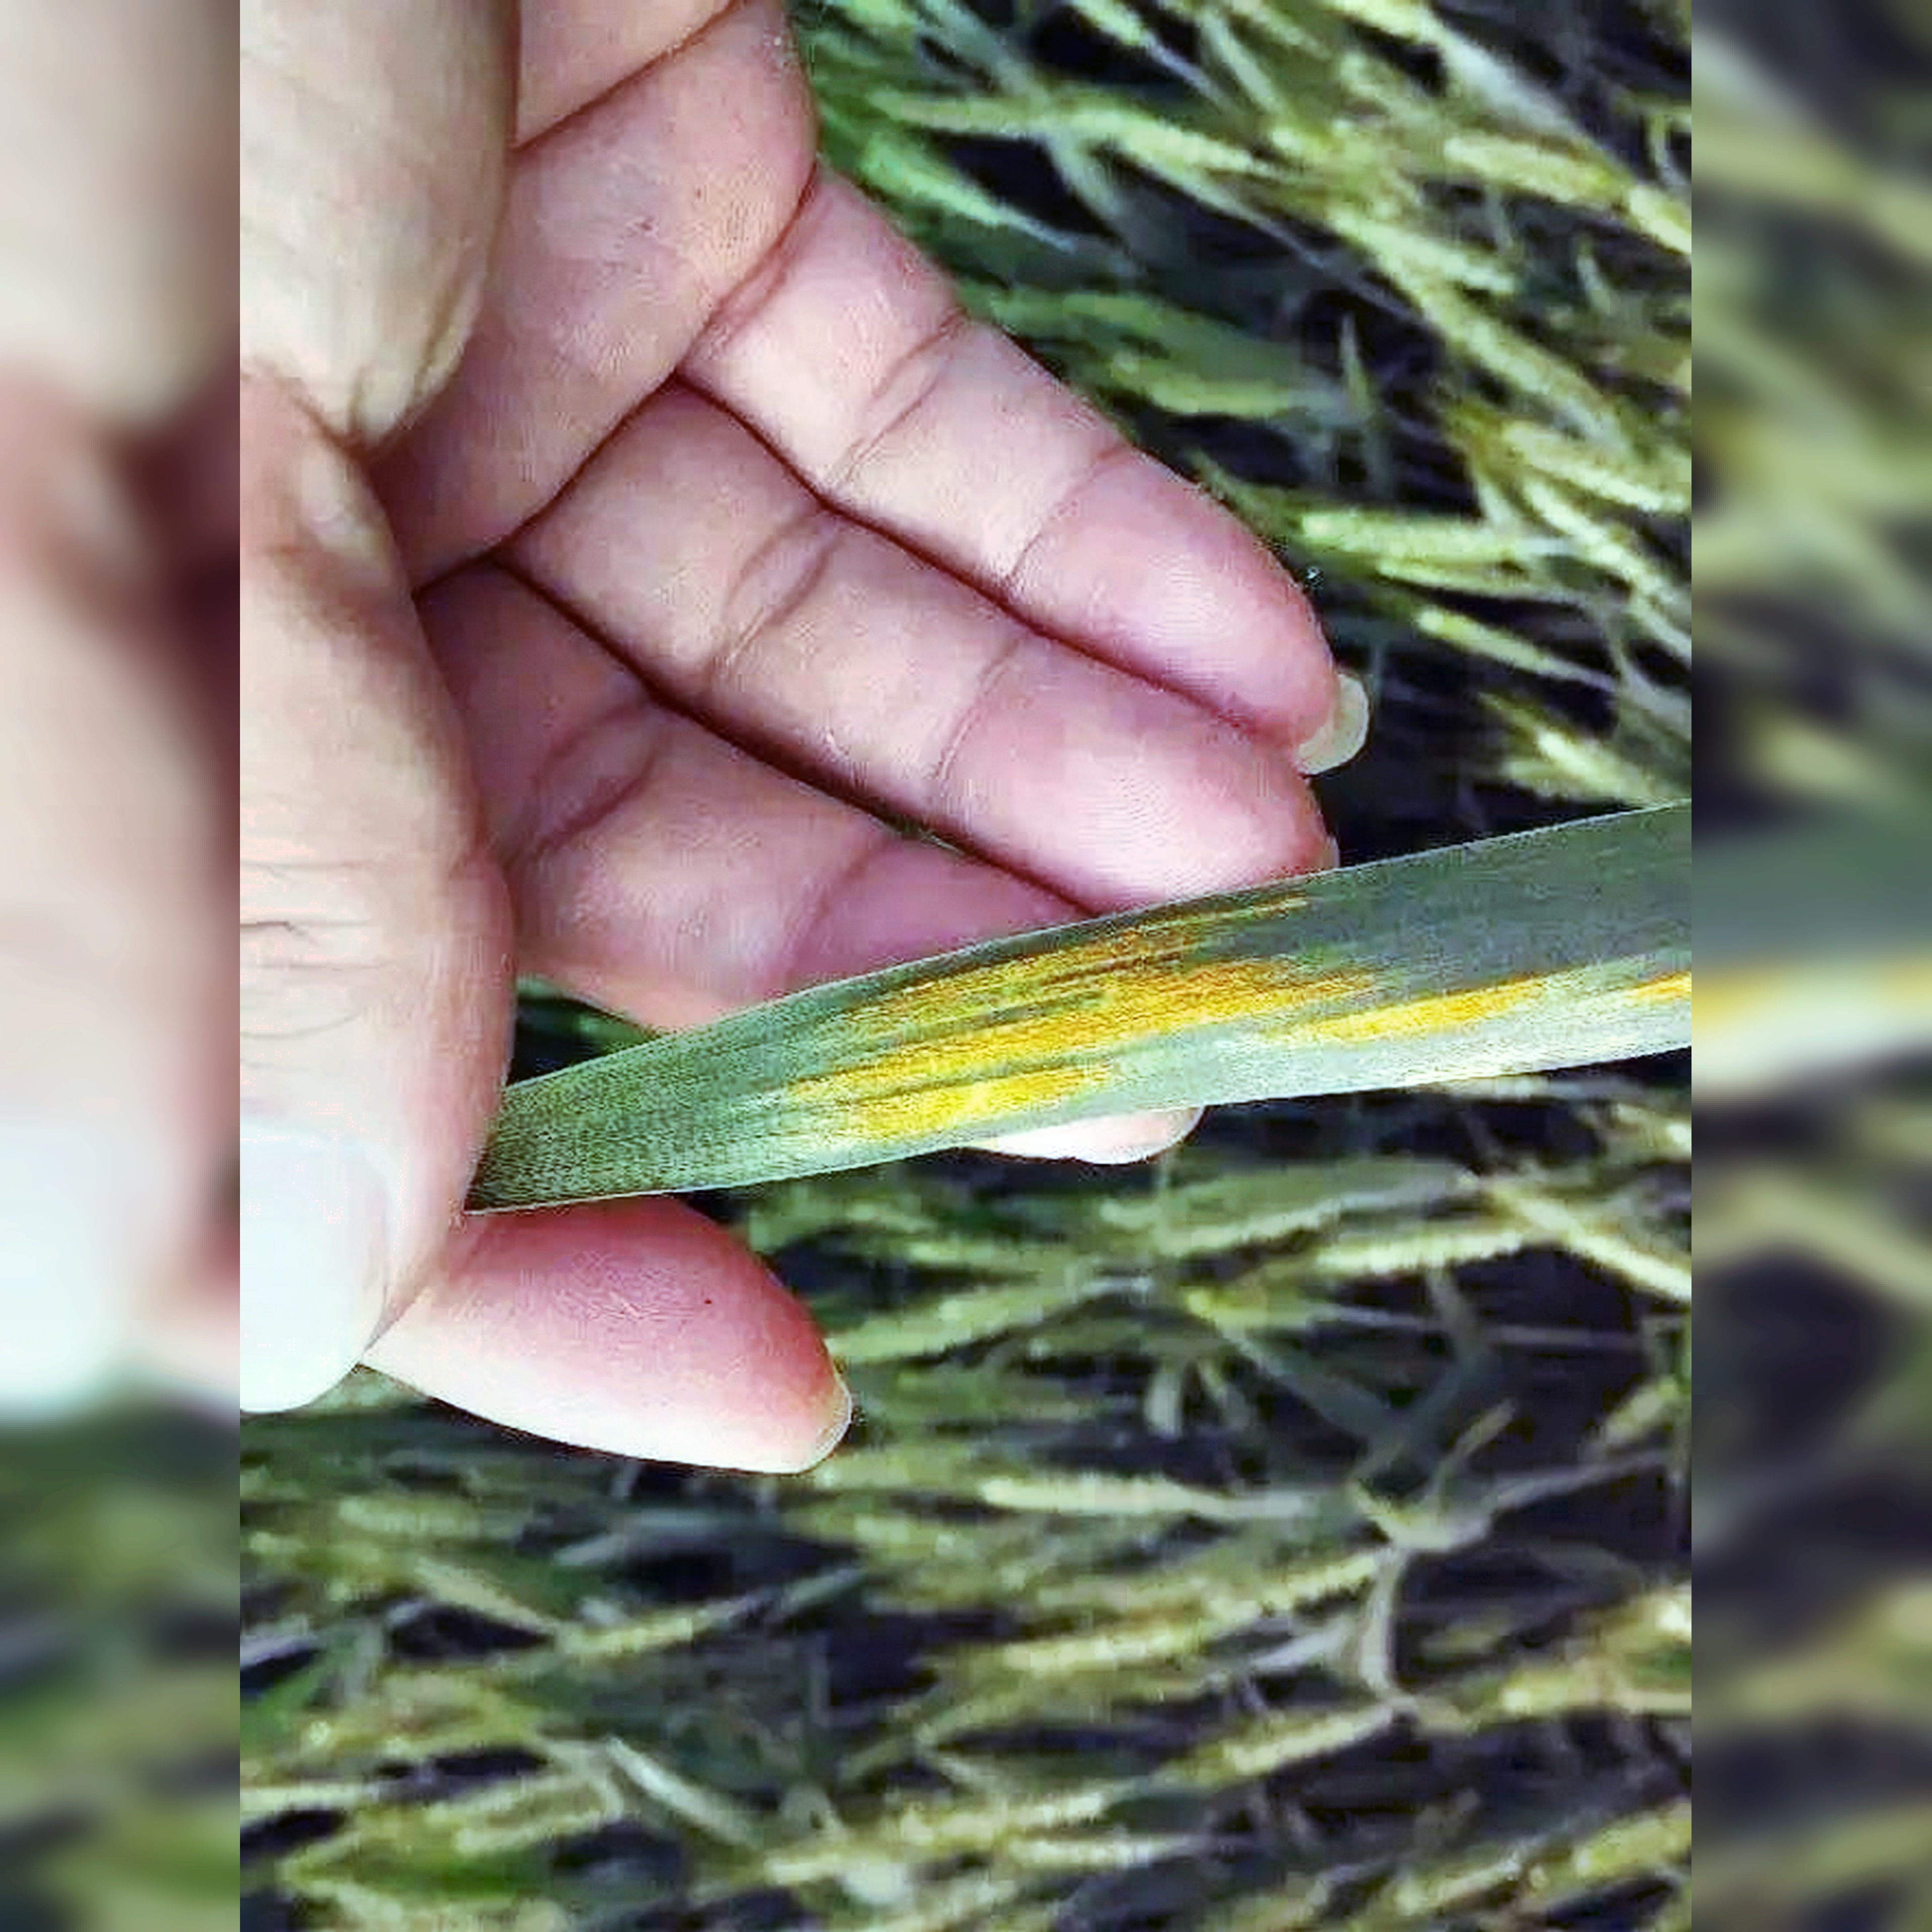Leaf Rust: (732, 874, 1578, 1180)
